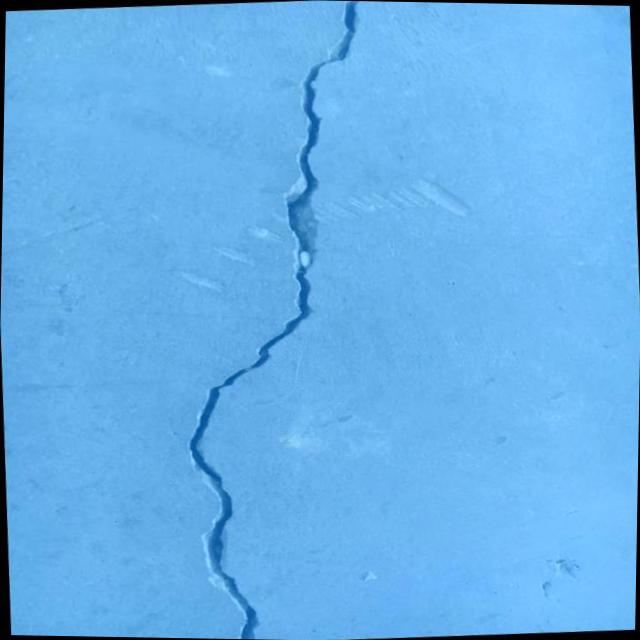crack: (160, 0, 395, 640)
